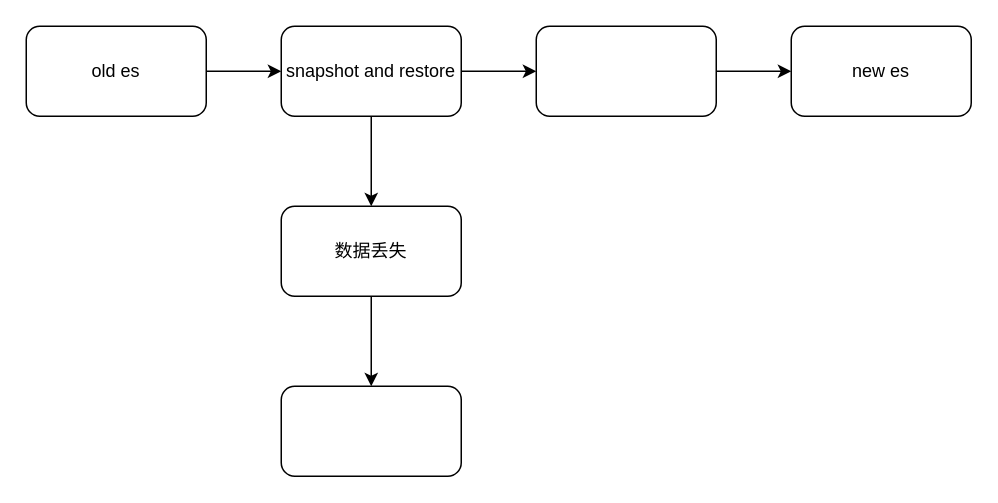
Image size: 998x503. Some labels were removed from this diagram. The shapes that lost their labels are listed below. From the top down, each one's box as (x1, y1, x2, y2) in pixels, then its label:
(535, 25, 716, 116): index
(280, 385, 461, 476): 副本
